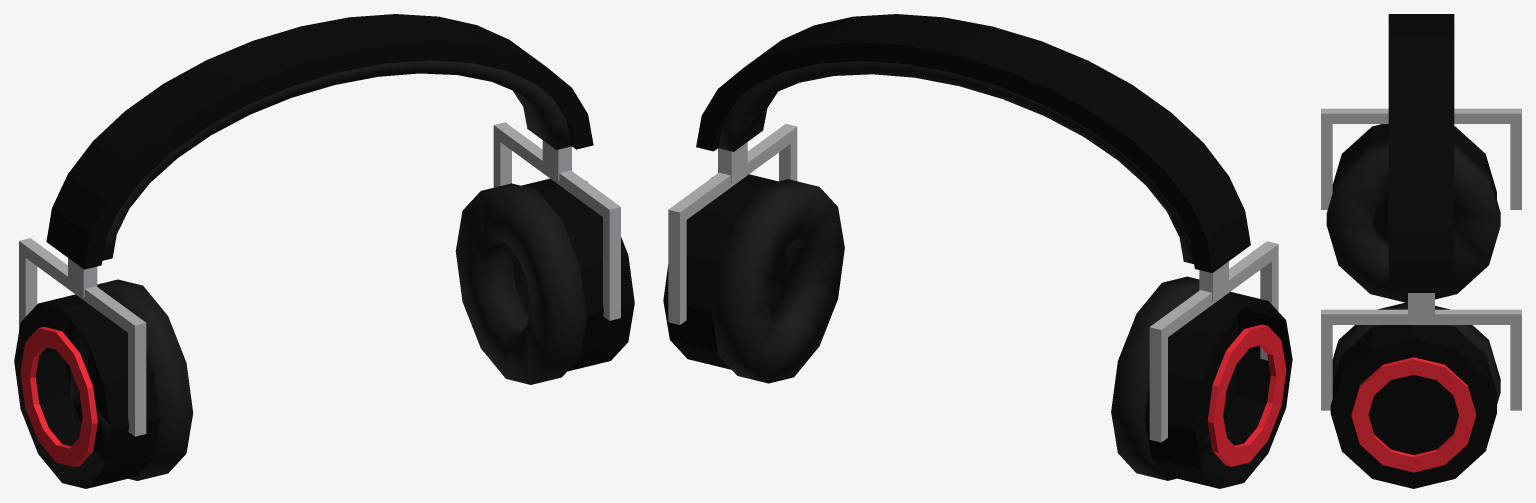
File: headphones.fbx
3 views of the same model, side by side, from view 1: azimuth 30°, elevation 25°; view 2: azimuth 150°, elevation 25°; view 3: azimuth 270°, elevation 25° (orthographic). The views are drawn at different scales.
Parts seen in each view (by area): view 1: Shell, Pad, Metal, Accent; view 2: Shell, Pad, Metal, Accent; view 3: Shell, Pad, Metal, Accent.
Part boxes in pixels (x1,y1,x2,y2): Shell: (14, 14, 634, 488); Pad: (69, 60, 586, 480); Metal: (19, 122, 620, 436); Accent: (20, 326, 97, 467); Shell: (663, 14, 1292, 488); Pad: (712, 61, 1227, 480); Metal: (668, 124, 1278, 442); Accent: (1207, 324, 1286, 466); Shell: (1330, 14, 1496, 488); Pad: (1326, 140, 1500, 403); Metal: (1321, 108, 1521, 410); Accent: (1351, 357, 1475, 472).
Size of the model in its own units: 0.278 by 0.188 by 0.104.
